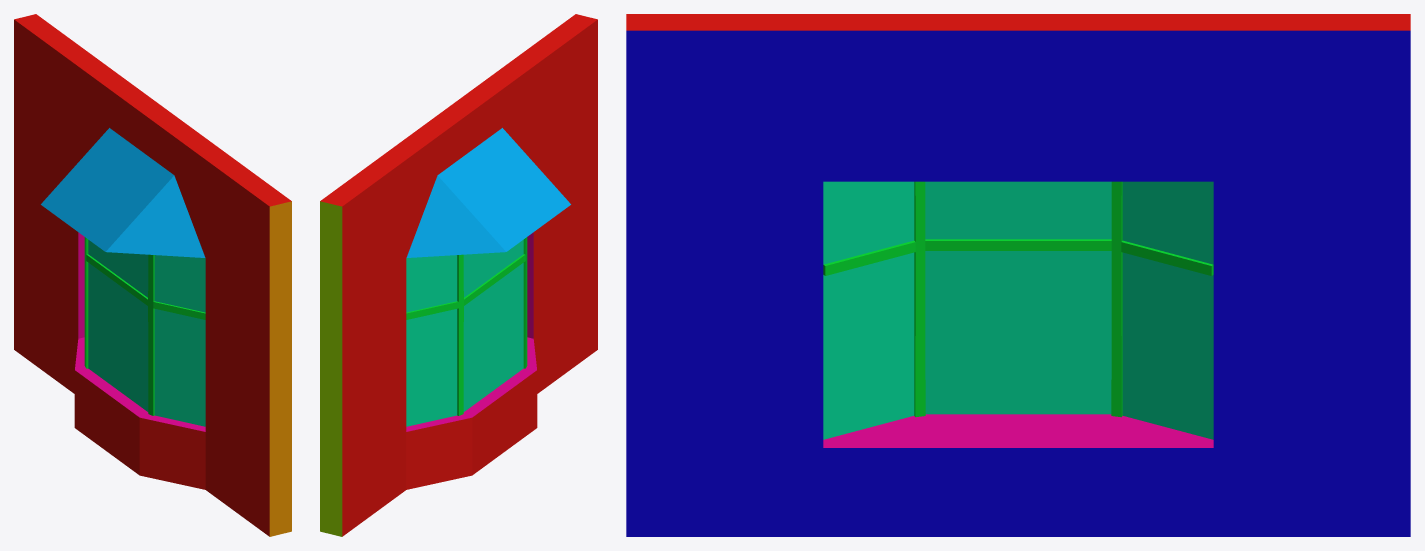
The model's file is Wall_Baywindow.fbx.
The picture shows the model from 3 angles, left to right: view 1: azimuth 30°, elevation 25°; view 2: azimuth 150°, elevation 25°; view 3: azimuth 270°, elevation 25°; orthographic projection. The views are drawn at different scales.
Parts seen in each view (by area): view 1: Wall_BayWindow, Baywindow_Glass, Baywindow_Frame; view 2: Wall_BayWindow, Baywindow_Glass, Baywindow_Frame; view 3: Wall_BayWindow, Baywindow_Glass, Baywindow_Frame.
Part boxes in pixels (bbox=[...]): Wall_BayWindow: bbox=[14, 14, 291, 536]; Baywindow_Glass: bbox=[88, 240, 205, 426]; Baywindow_Frame: bbox=[84, 237, 205, 415]; Wall_BayWindow: bbox=[320, 14, 597, 536]; Baywindow_Glass: bbox=[406, 240, 523, 426]; Baywindow_Frame: bbox=[406, 237, 527, 415]; Wall_BayWindow: bbox=[626, 14, 1410, 536]; Baywindow_Glass: bbox=[823, 181, 1213, 439]; Baywindow_Frame: bbox=[823, 181, 1213, 417].
Size of the model in its own units: 164 by 570 by 800.
